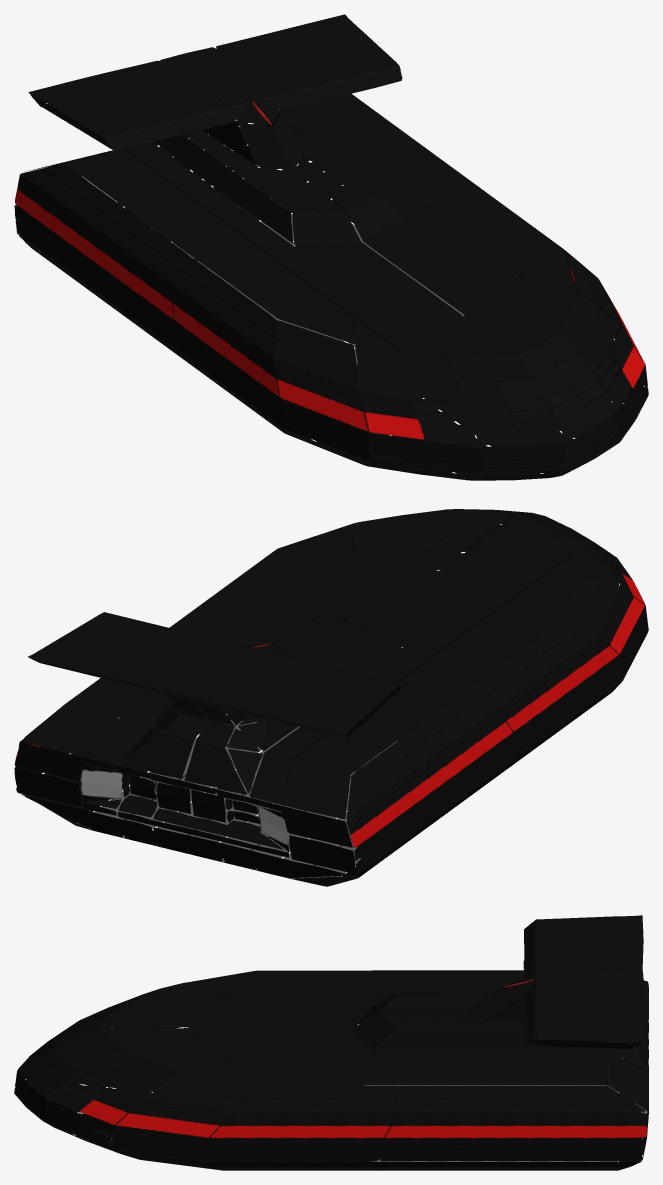
Rendered from space_mothership.obj.
3 renders of one model, top to bottom at view 1: azimuth 30°, elevation 25°; view 2: azimuth 150°, elevation 25°; view 3: azimuth 270°, elevation 25°, orthographic. The views are drawn at different scales.
Visible parts, largest first — view 1: Cube; view 2: Cube; view 3: Cube.
Boxes of the visible parts, x1=… form: Cube: x1=14, y1=14, x2=648, y2=480; Cube: x1=14, y1=509, x2=648, y2=886; Cube: x1=14, y1=915, x2=648, y2=1170.
Bounding box in the file's own units: 2.7 × 1.3 × 5.3.
